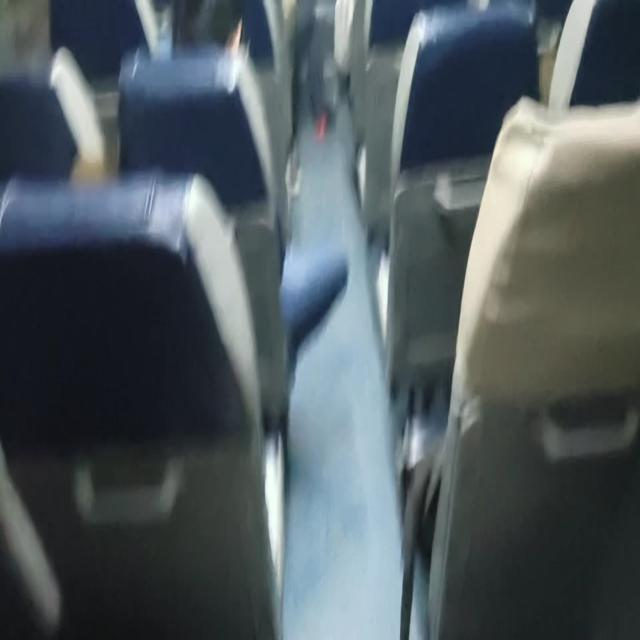person: (178, 0, 261, 87)
